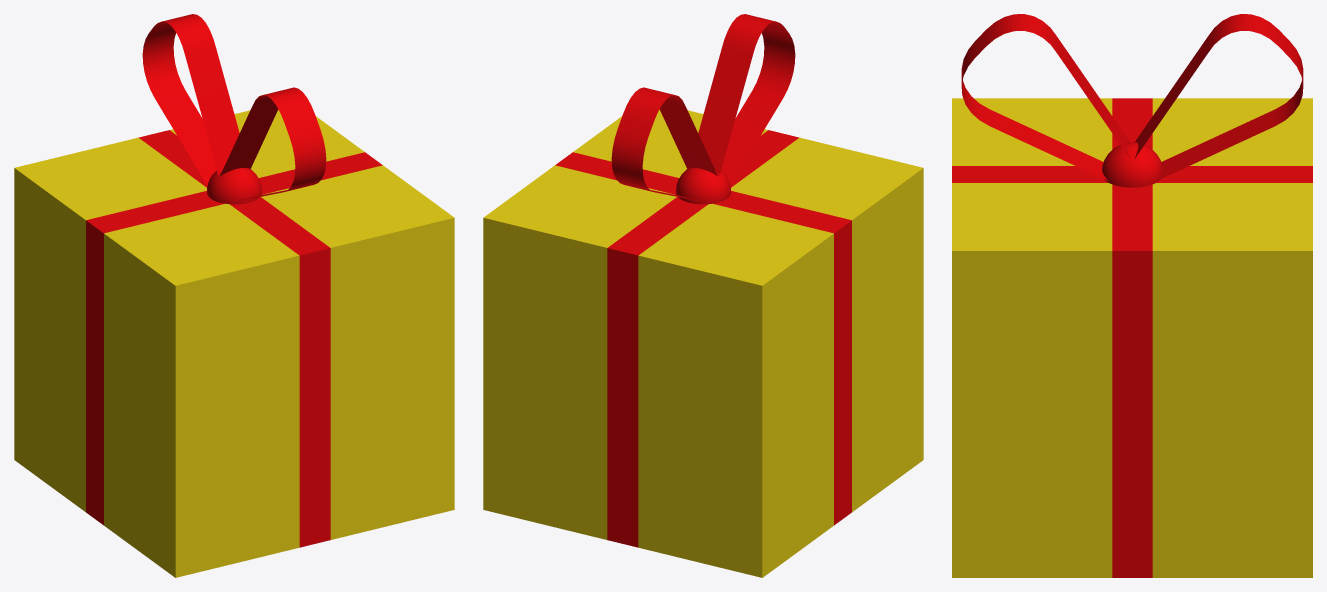
File: present.fbx
3 renders of one model, left to right at view 1: azimuth 30°, elevation 25°; view 2: azimuth 150°, elevation 25°; view 3: azimuth 270°, elevation 25°, orthographic. The views are drawn at different scales.
Parts seen in each view (by area): view 1: Cube; view 2: Cube; view 3: Cube.
Boxes of the visible parts, box(x1,y1,x2,y2) form: Cube: box(14, 14, 454, 577); Cube: box(483, 14, 923, 577); Cube: box(952, 14, 1312, 577).
Size of the model in its own units: 200 by 293 by 200.
